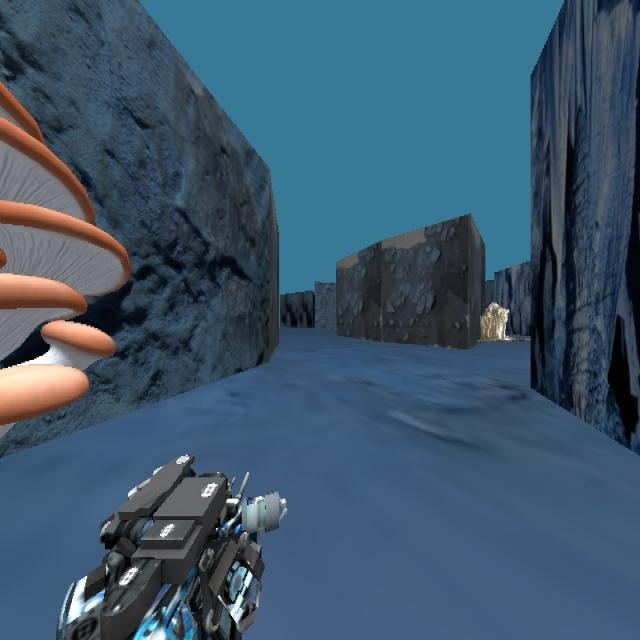Ice: (476, 299, 518, 345)
Mushroom: (0, 79, 131, 426)
